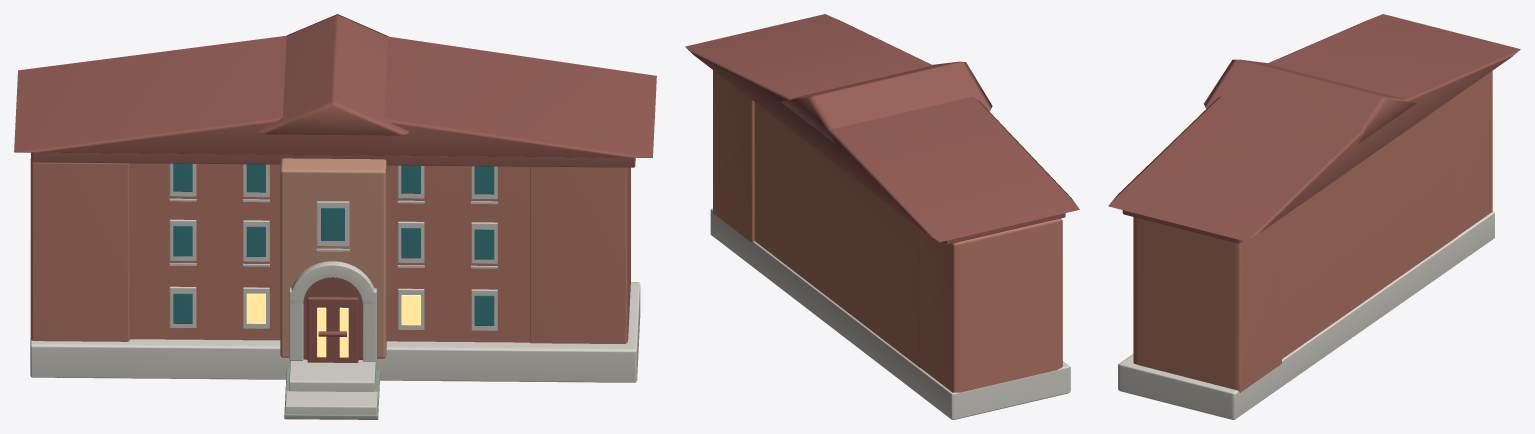
The model's file is education.glb.
The picture shows the model from 3 angles, left to right: view 1: azimuth 30°, elevation 25°; view 2: azimuth 150°, elevation 25°; view 3: azimuth 270°, elevation 25°; orthographic projection. The views are drawn at different scales.
Parts seen in each view (by area): view 1: LM_Education_MainSlateRoof, LM_Education_MainBrickFacade, LM_Education_StonePlinth, LM_Education_RightWing.001, LM_Education_RightWing, LM_Education_CentralEntranceProjection, LM_Education_CentralRoofCrown, LM_Education_CorniceBand, LM_Education_EntranceSteps_Upper, LM_Education_ArchedMainDoor_Frame, LM_Education_EntranceSteps_Lower, LM_Education_EntranceArchedStoneHeader (+18 smaller); view 2: LM_Education_MainSlateRoof, LM_Education_MainBrickFacade, LM_Education_RightWing.001, LM_Education_StonePlinth, LM_Education_CentralRoofCrown, LM_Education_RightWing, LM_Education_CorniceBand; view 3: LM_Education_MainSlateRoof, LM_Education_MainBrickFacade, LM_Education_RightWing, LM_Education_StonePlinth, LM_Education_CentralRoofCrown, LM_Education_RightWing.001, LM_Education_CorniceBand.
Part boxes in pixels (<box>): LM_Education_MainSlateRoof: <box>14,35,656,157</box>; LM_Education_MainBrickFacade: <box>130,163,529,342</box>; LM_Education_StonePlinth: <box>30,282,640,382</box>; LM_Education_RightWing.001: <box>30,152,129,341</box>; LM_Education_RightWing: <box>530,166,630,343</box>; LM_Education_CentralEntranceProjection: <box>280,158,386,358</box>; LM_Education_CentralRoofCrown: <box>258,14,408,135</box>; LM_Education_CorniceBand: <box>32,152,635,167</box>; LM_Education_EntranceSteps_Upper: <box>289,359,376,391</box>; LM_Education_ArchedMainDoor_Frame: <box>307,297,358,362</box>; LM_Education_EntranceSteps_Lower: <box>285,391,377,414</box>; LM_Education_EntranceArchedStoneHeader: <box>290,261,375,303</box>; LM_Education_MainSlateRoof: <box>685,14,1079,242</box>; LM_Education_MainBrickFacade: <box>754,102,919,367</box>; LM_Education_RightWing.001: <box>920,218,1062,392</box>; LM_Education_StonePlinth: <box>710,208,1070,419</box>; LM_Education_CentralRoofCrown: <box>781,61,992,143</box>; LM_Education_RightWing: <box>713,70,754,242</box>; LM_Education_CorniceBand: <box>943,213,1065,244</box>; LM_Education_MainSlateRoof: <box>1108,14,1520,241</box>; LM_Education_MainBrickFacade: <box>1282,95,1457,358</box>; LM_Education_RightWing: <box>1133,217,1281,392</box>; LM_Education_StonePlinth: <box>1118,211,1494,419</box>; LM_Education_CentralRoofCrown: <box>1203,59,1416,143</box>; LM_Education_RightWing.001: <box>1457,71,1492,235</box>; LM_Education_CorniceBand: <box>1122,210,1243,243</box>.
Bounding box in the file's own units: 1.59 × 0.7732 × 1.22.
